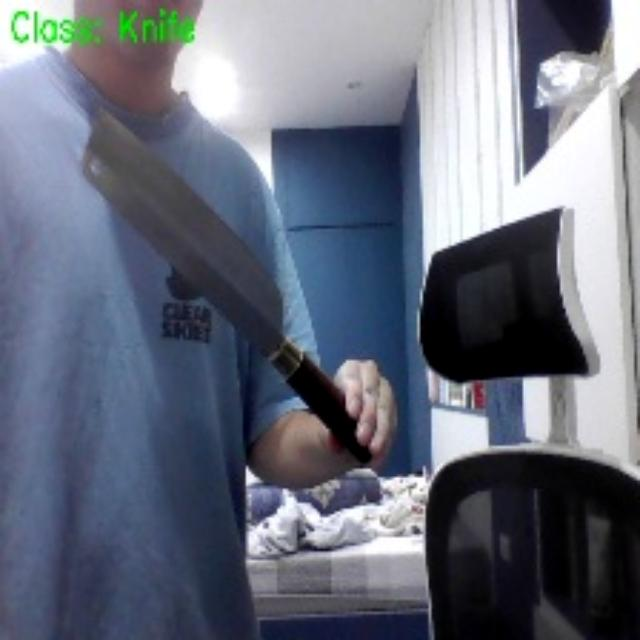Knife: (83, 112, 371, 462)
